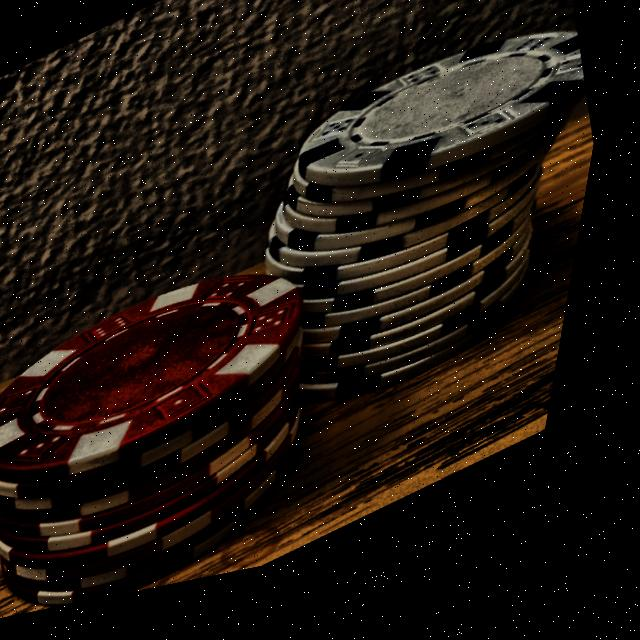Chip: (163, 0, 628, 501), (0, 223, 392, 637)
